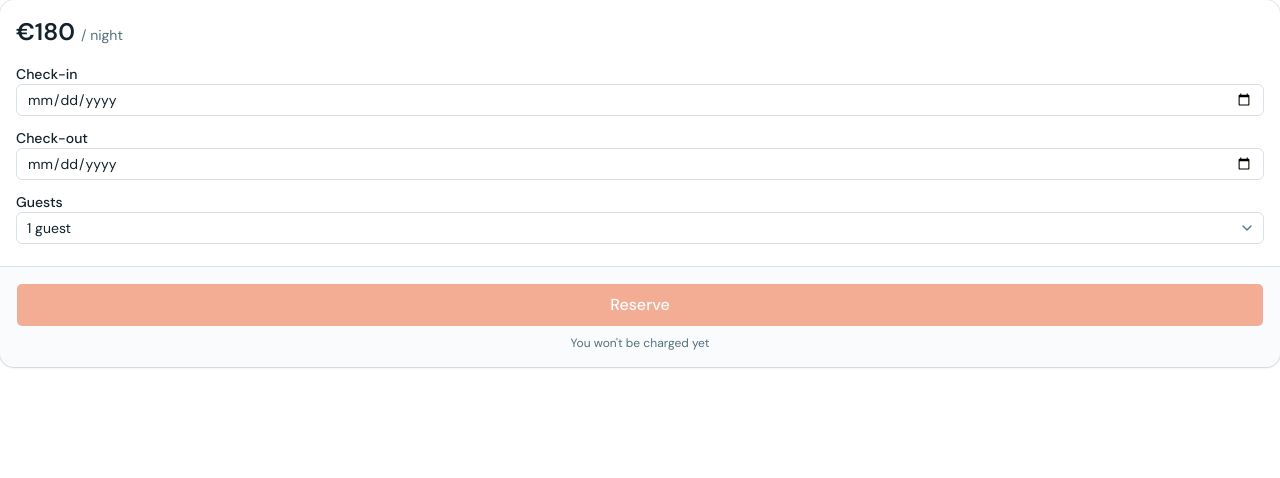
StayAvailabilityPanel › disables reserve and explains why when the stay is unavailable
Type "2026-07-10" into the date field labelled "Check-in" at (640, 100), box [16, 84, 1264, 116]
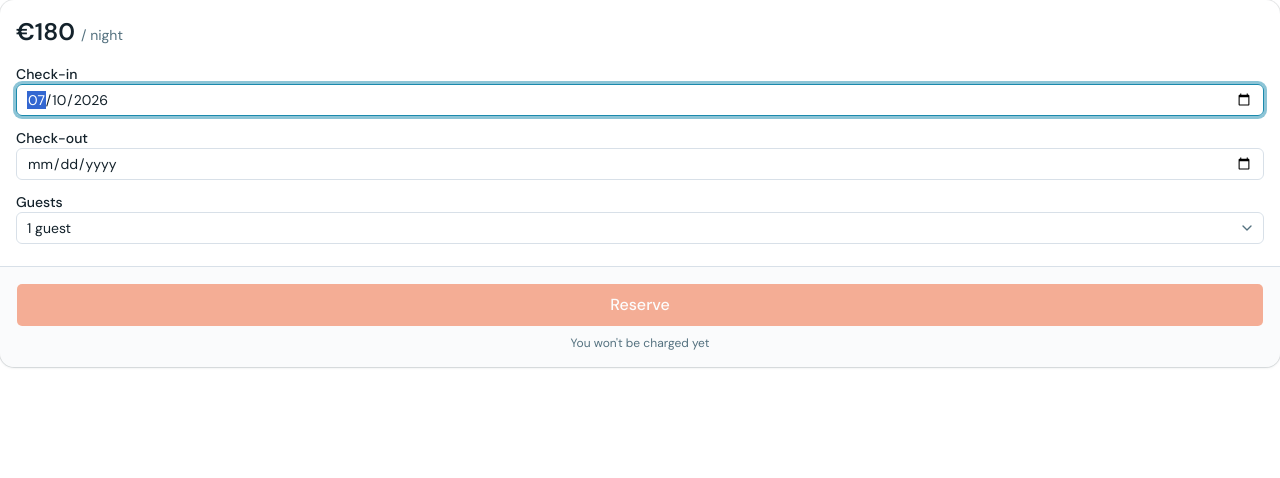
Type "2026-07-12" into the date field labelled "Check-out" at (640, 164), box [16, 148, 1264, 180]
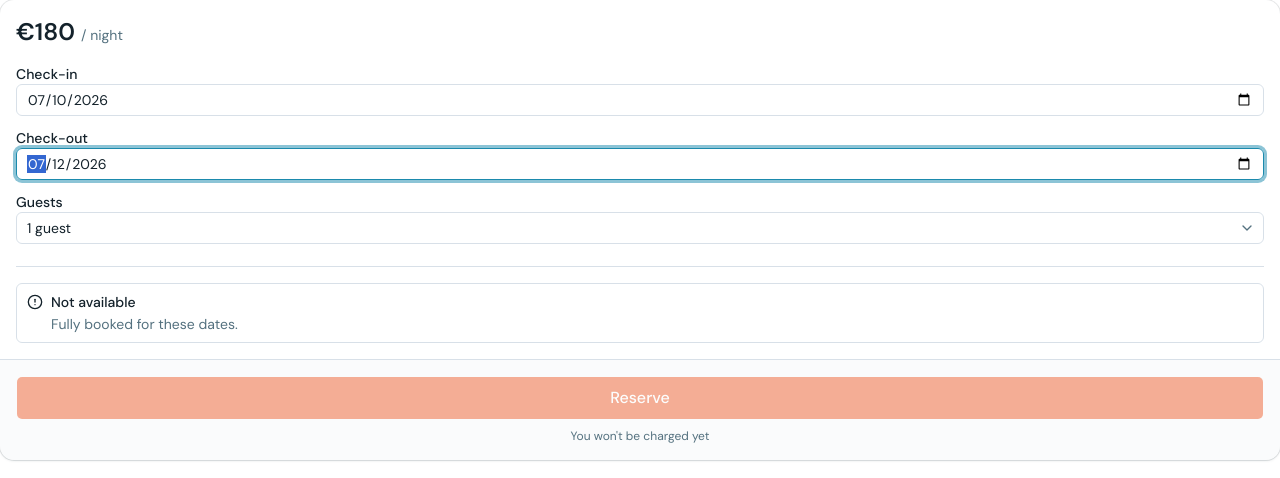
Expected: the button "Reserve" is disabled, [16, 376, 1264, 420]
Expected: the text "Fully booked for these dates." is shown, [51, 315, 238, 333]
